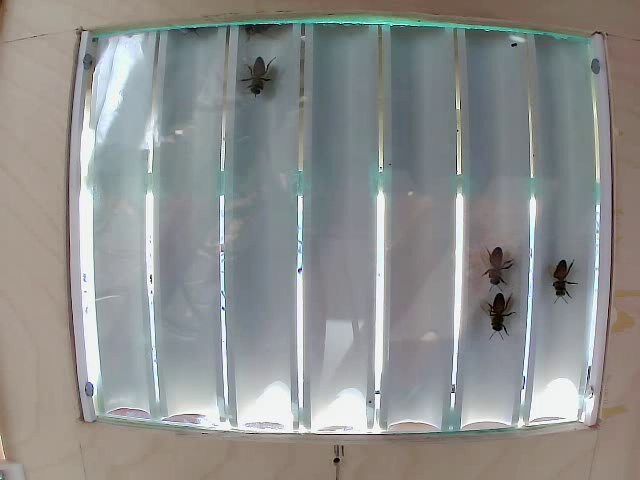bee: (478, 232, 514, 286), (247, 47, 280, 95), (490, 293, 525, 338), (544, 251, 570, 293)
